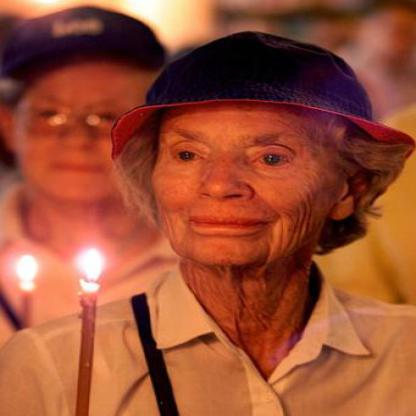face: (143, 38, 353, 278), (14, 26, 160, 208)
